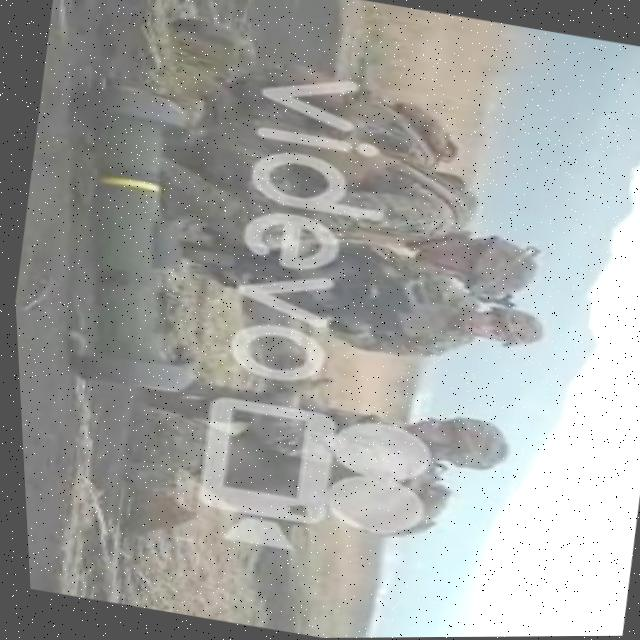rocket: (22, 81, 239, 405)
